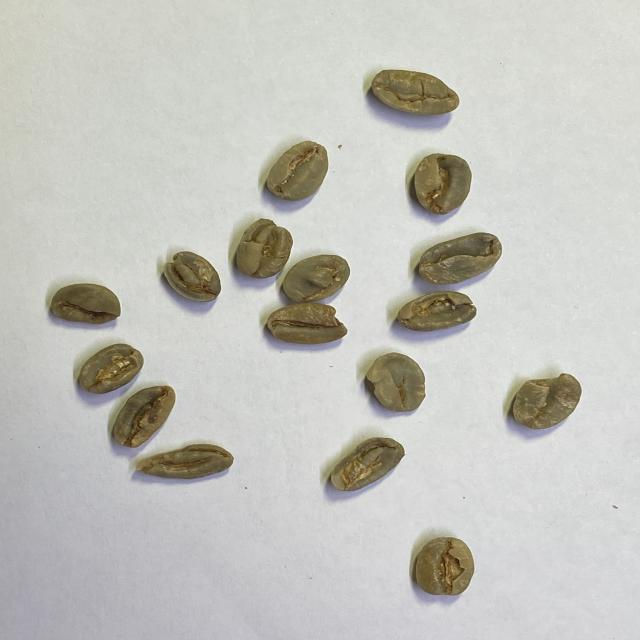bad: (369, 67, 461, 119), (418, 231, 503, 286), (329, 435, 405, 493), (264, 138, 331, 203), (510, 371, 582, 431), (112, 384, 177, 449), (364, 351, 428, 413), (412, 152, 474, 215), (234, 216, 294, 281), (413, 536, 476, 597), (136, 443, 235, 480), (77, 341, 144, 395), (395, 290, 478, 333), (282, 253, 351, 304), (266, 303, 349, 345), (162, 250, 222, 304), (49, 282, 122, 326)
